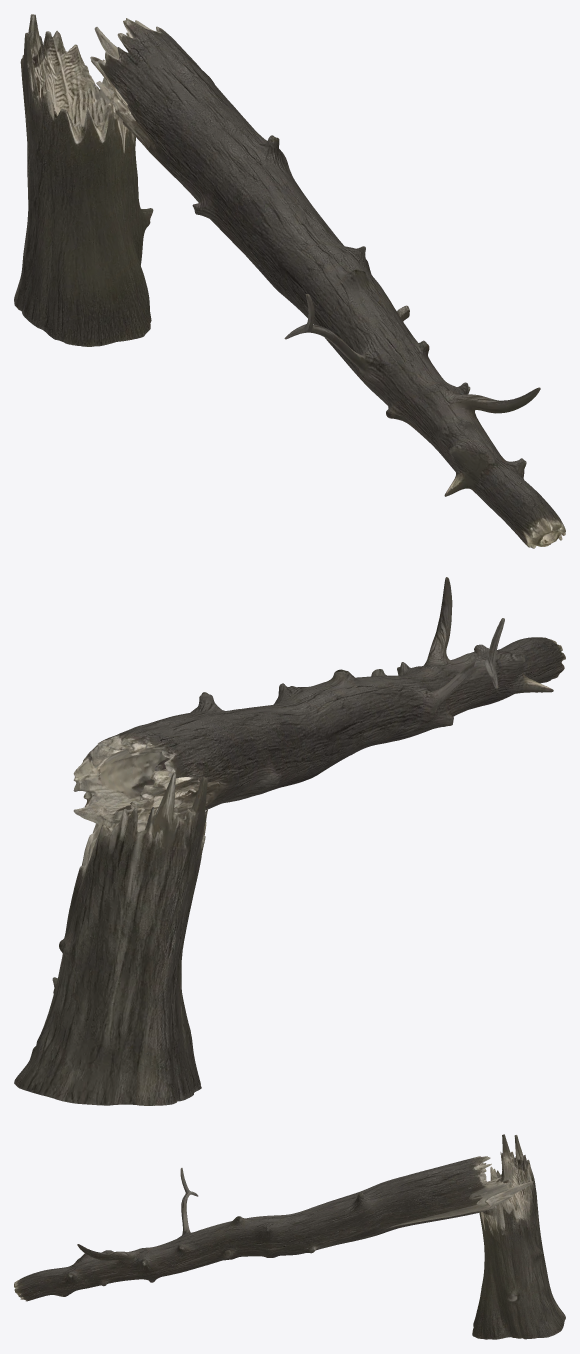
The model's file is brokentree.glb.
3 views of the same model, one above another, from view 1: azimuth 30°, elevation 25°; view 2: azimuth 150°, elevation 25°; view 3: azimuth 270°, elevation 25° (orthographic). The views are drawn at different scales.
Visible parts, largest first — view 1: Mesh_0.003; view 2: Mesh_0.003; view 3: Mesh_0.003.
Part boxes in pixels (box(x1,y1,x2,y2)): Mesh_0.003: box(14, 14, 565, 548); Mesh_0.003: box(14, 577, 565, 1105); Mesh_0.003: box(14, 1134, 565, 1339).
Size of the model in its own units: 0.3593 by 0.7057 by 1.95.
Materials: 1 (1 with a texture image).
